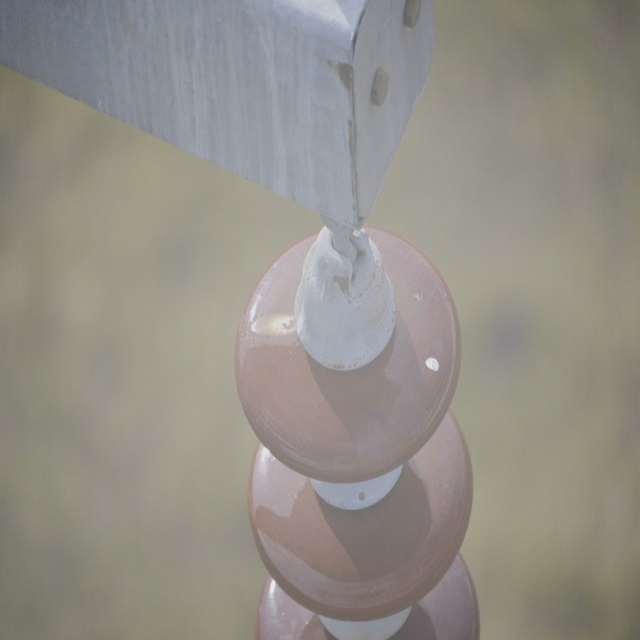insulator: (235, 220, 480, 640)
